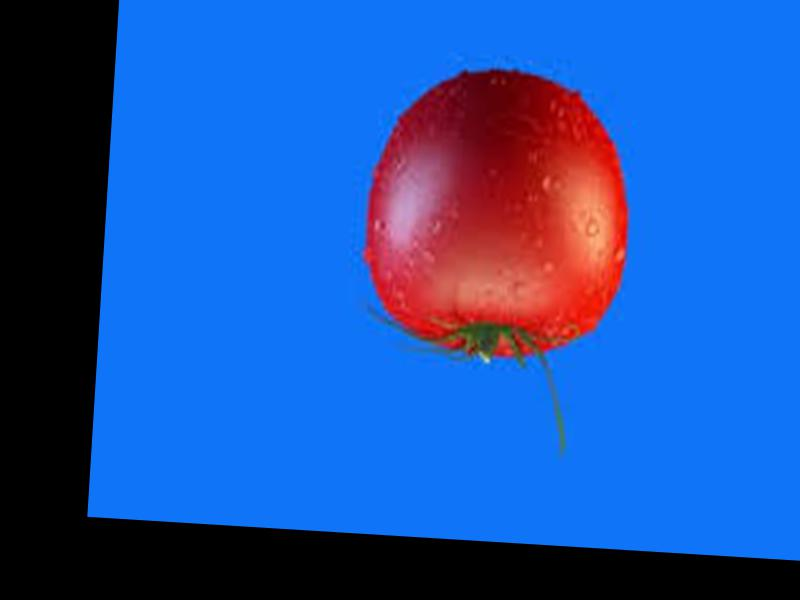Tomato: (356, 61, 637, 366)
